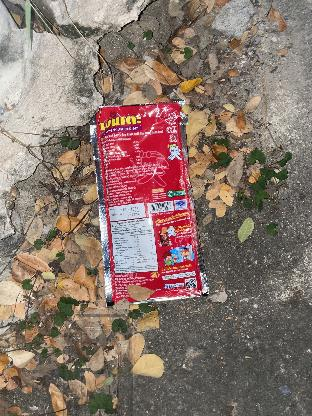Plastic Packaging: (80, 87, 206, 309)
